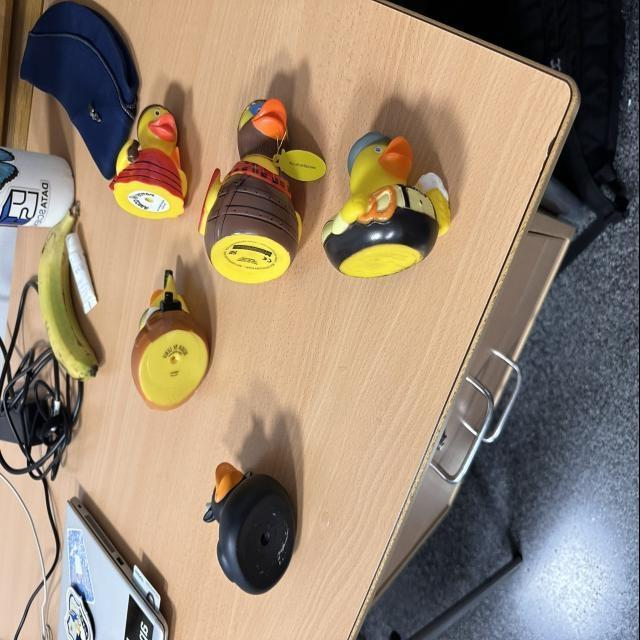rubber-duck: (198, 97, 324, 281), (321, 130, 449, 275), (202, 461, 293, 592), (130, 269, 207, 408), (109, 103, 185, 217)
